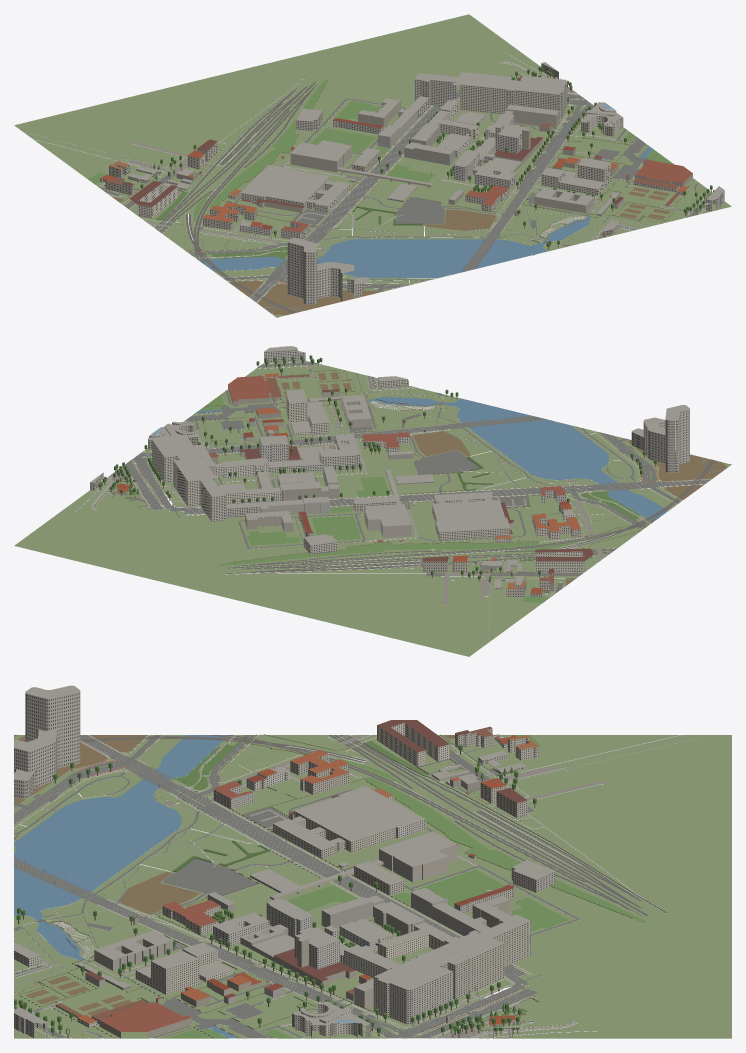
The picture shows the model from 3 angles, top to bottom: view 1: azimuth 30°, elevation 25°; view 2: azimuth 150°, elevation 25°; view 3: azimuth 270°, elevation 25°; orthographic projection. The views are drawn at different scales.
Size of the model in its own units: 750 by 83.12 by 750.
3 materials, 1 textured.
